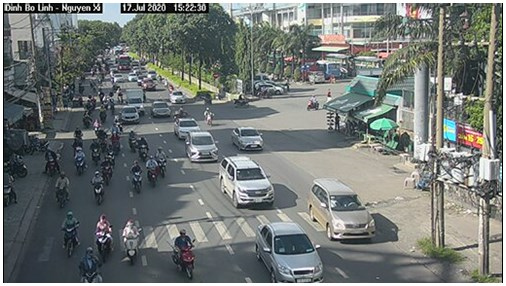xe_hoi: (252, 220, 325, 283), (307, 177, 375, 243), (218, 155, 276, 208), (184, 130, 221, 164), (229, 125, 266, 153), (172, 116, 200, 141), (118, 104, 142, 127), (151, 100, 172, 118), (168, 89, 185, 105)
xe_may: (170, 229, 201, 280), (60, 209, 84, 258), (77, 245, 104, 282), (122, 216, 141, 266), (94, 215, 114, 260), (54, 170, 72, 209), (126, 159, 146, 194), (41, 146, 61, 175), (154, 146, 170, 180), (90, 170, 105, 206), (67, 125, 86, 150), (98, 156, 114, 184), (72, 146, 86, 175), (146, 155, 158, 188), (89, 139, 102, 167), (230, 93, 252, 109), (107, 121, 120, 147), (203, 106, 218, 128), (137, 135, 148, 162), (126, 130, 137, 155), (105, 143, 116, 164), (304, 96, 320, 110), (82, 107, 92, 128)
xe_tai: (125, 87, 145, 115)
